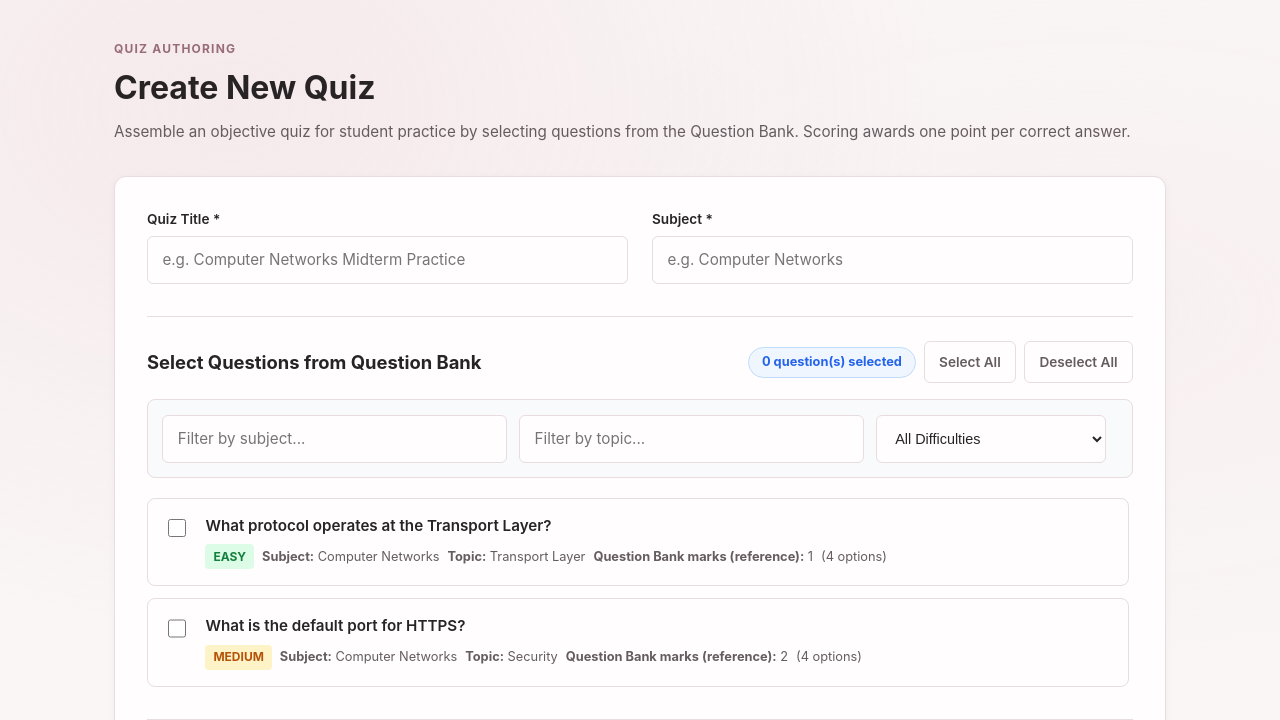
CreateQuizPage (CSMQ-49) › toggles question selection and updates counter
Expected: the text "What protocol operates at the Transport Layer?" is shown, [205, 516, 552, 535]
Expected: the text "0 question(s) selected" is shown, [748, 346, 916, 378]
Click the checkbox named "Select question: What protocol operates at the Transport Lay".
click(177, 528)  # box [168, 519, 186, 537]
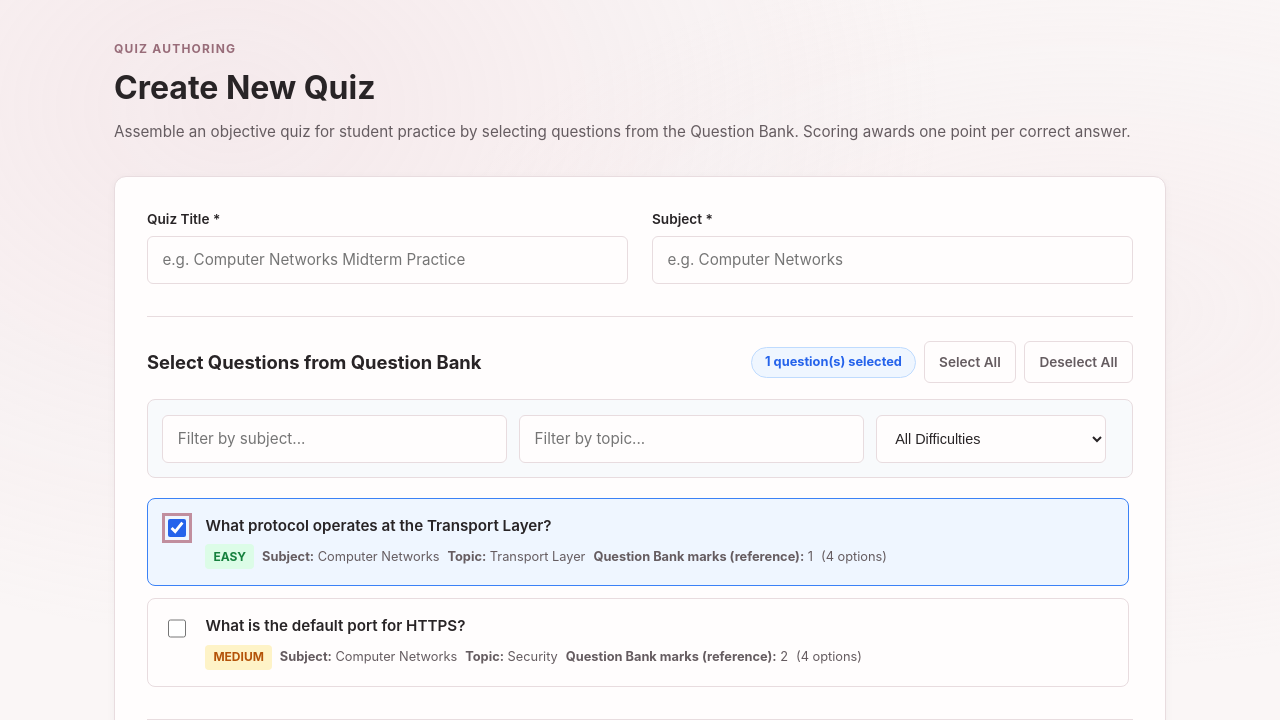
Now the text "1 question(s) selected" is shown, box [751, 346, 916, 378]
Click the checkbox named "Select question: What is the default port for HTTPS?".
click(177, 628)  # box [168, 619, 186, 638]
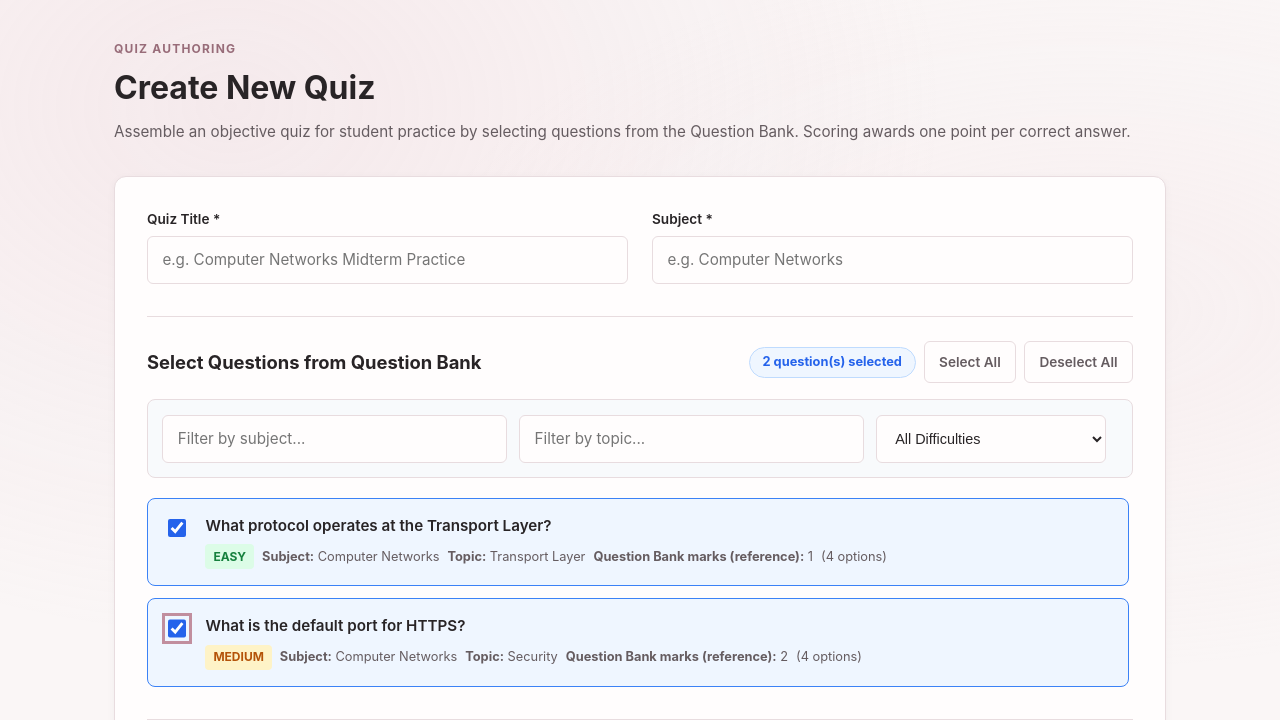
Now the text "2 question(s) selected" is shown, box [749, 346, 916, 378]
Click the checkbox named "Select question: What protocol operates at the Transport Lay".
click(177, 528)  # box [168, 519, 186, 537]
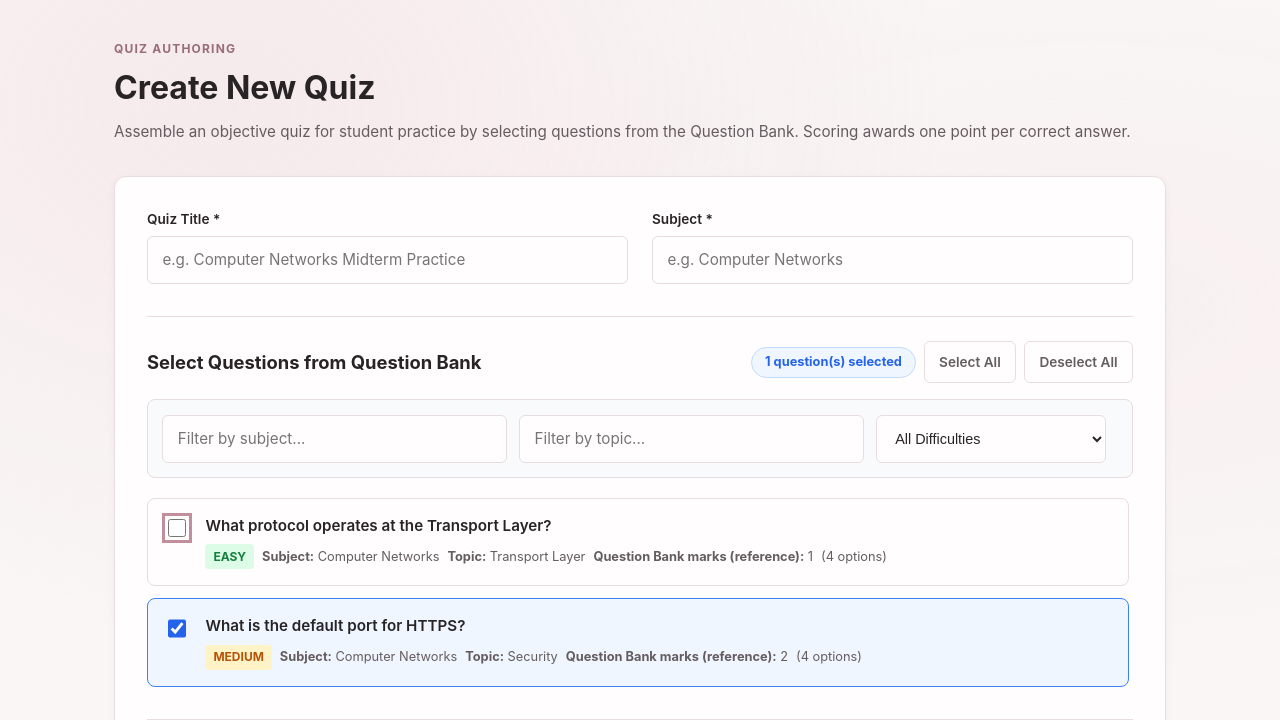
Now the text "1 question(s) selected" is shown, box [751, 346, 916, 378]
